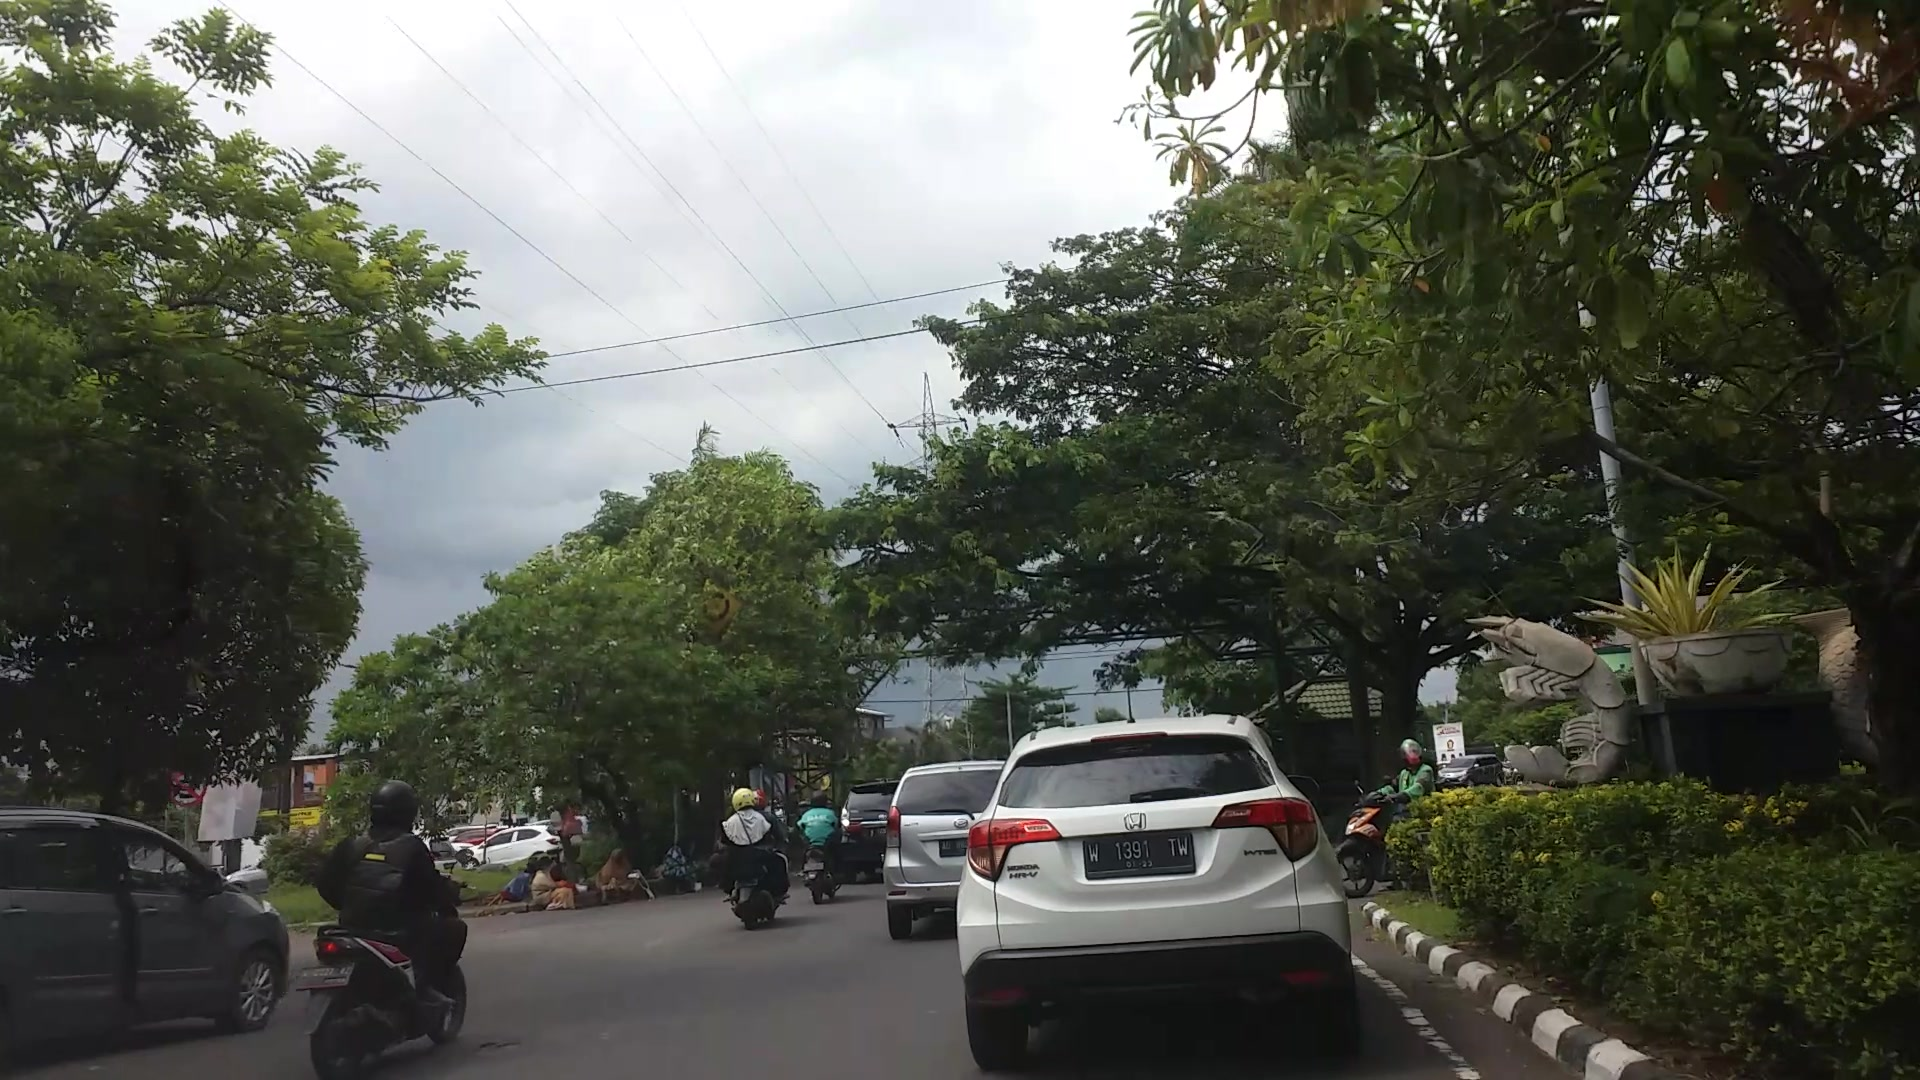plate_positive: (1083, 832, 1195, 880)
